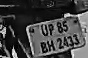2: (56, 35, 64, 51)
3: (73, 33, 81, 45), (67, 36, 75, 47)
4: (62, 37, 70, 48)
5: (62, 20, 69, 34)
8: (56, 21, 64, 34)
B: (40, 40, 49, 56)
H: (47, 40, 57, 53)
P: (47, 23, 55, 36)
U: (40, 22, 49, 38)
